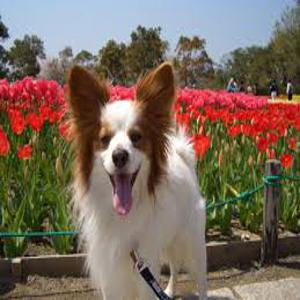yell: (67, 63, 207, 300)
